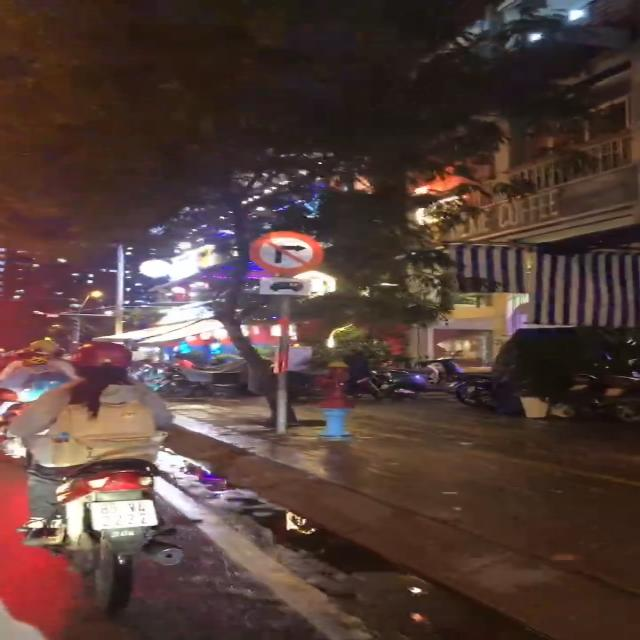Bien bao cam re phai: (242, 227, 329, 275)
